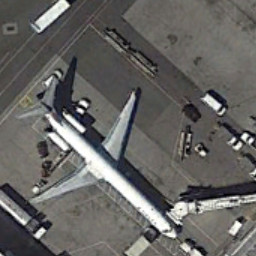Airplane: (8, 67, 191, 250)
